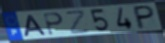4: (117, 6, 135, 31)
5: (90, 8, 111, 33)
A: (24, 14, 48, 38)
P: (133, 4, 156, 30), (43, 12, 65, 36)
Z: (64, 9, 92, 35)
